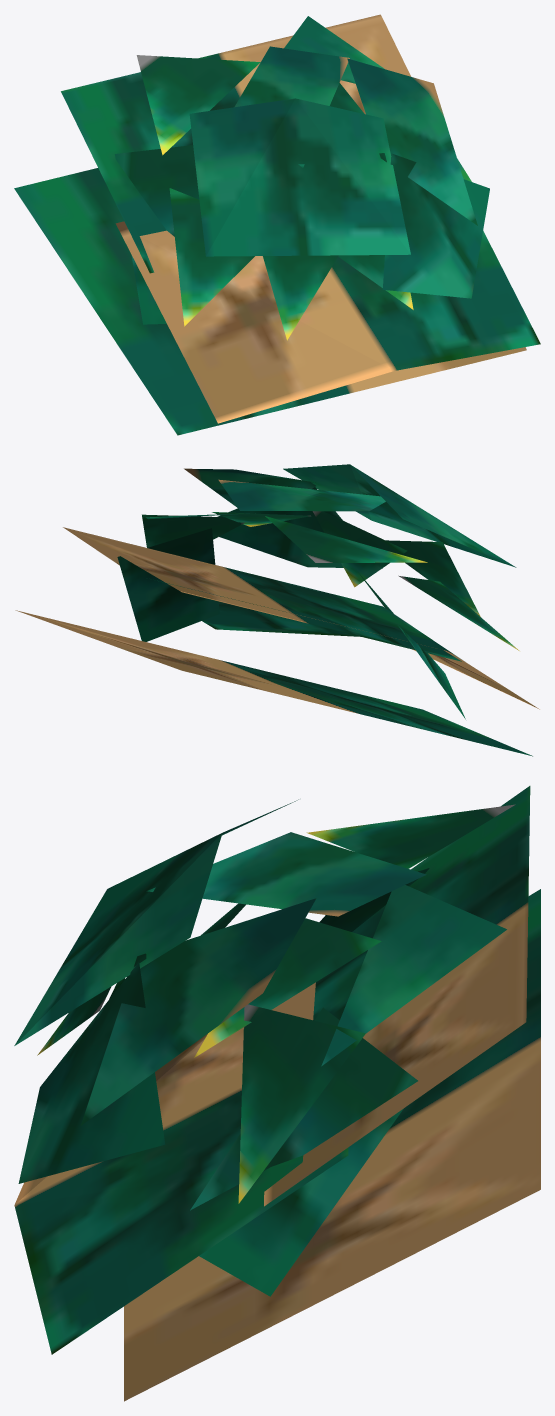
File: fg_bushC_2_bl.dae
The picture shows the model from 3 angles, top to bottom: view 1: azimuth 30°, elevation 25°; view 2: azimuth 150°, elevation 25°; view 3: azimuth 270°, elevation 25°; orthographic projection. The views are drawn at different scales.
Visible parts, largest first — view 1: fg_bushC_2_bl; view 2: fg_bushC_2_bl; view 3: fg_bushC_2_bl.
Part boxes in pixels (x1,y1,x2,y2): fg_bushC_2_bl: [14, 14, 540, 435]; fg_bushC_2_bl: [15, 464, 539, 756]; fg_bushC_2_bl: [14, 786, 540, 1401].
Bounding box in the file's own units: 47.83 × 31.21 × 35.4.
Materials: 1 (1 with a texture image).
